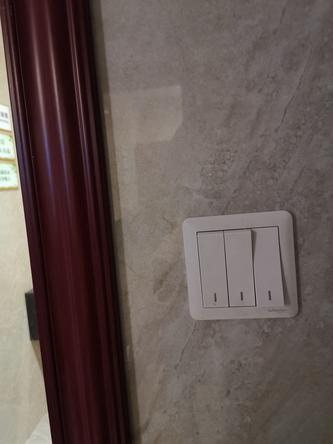switch: (245, 223, 288, 310), (221, 223, 258, 309), (195, 225, 232, 310)
